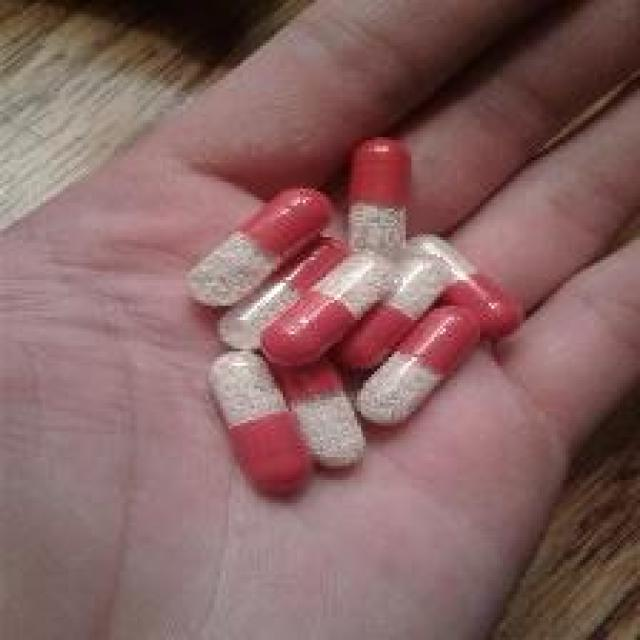Medicine: (161, 134, 528, 531)
